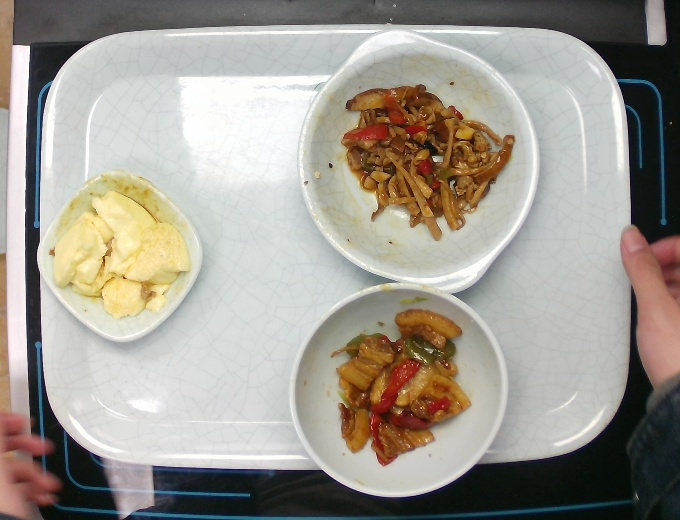JYsf-Fan_Wan: (284, 281, 510, 499)
JYsf-Shuang_Er_Wan: (293, 24, 546, 300)
JYsf-Si_Fang_Die: (35, 165, 201, 345)
